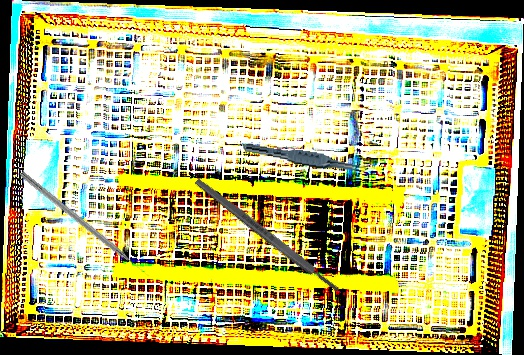Hook Surgical: (18, 170, 152, 280)
Scalpel Handle: (193, 176, 342, 295)
Tissue Forceps: (241, 142, 370, 176)
